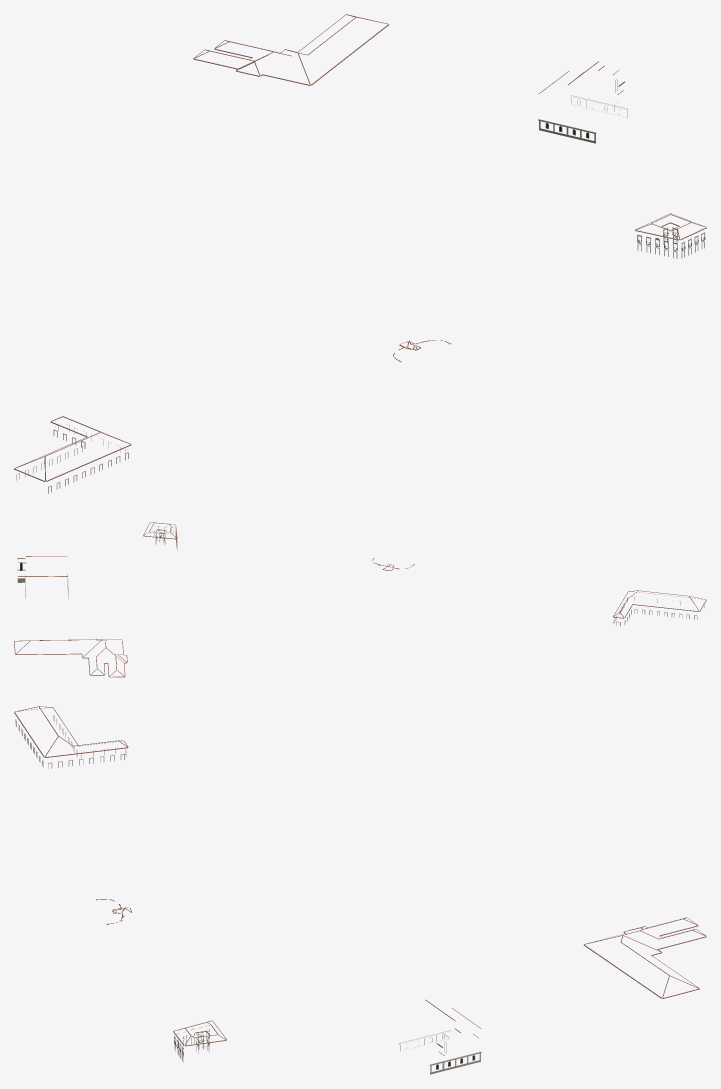
3 renders of one model, top to bottom at view 1: azimuth 30°, elevation 25°; view 2: azimuth 150°, elevation 25°; view 3: azimuth 270°, elevation 25°, orthographic. The views are drawn at different scales.
Parts seen in each view (by area): view 1: detail; view 2: detail; view 3: detail.
Boxes of the visible parts, left/top/right/bottom form: detail: left=14, top=14, right=706, bottom=493; detail: left=14, top=522, right=706, bottom=677; detail: left=14, top=706, right=706, bottom=1074.
Bounding box in the file's own units: 332 × 25.77 × 265.
